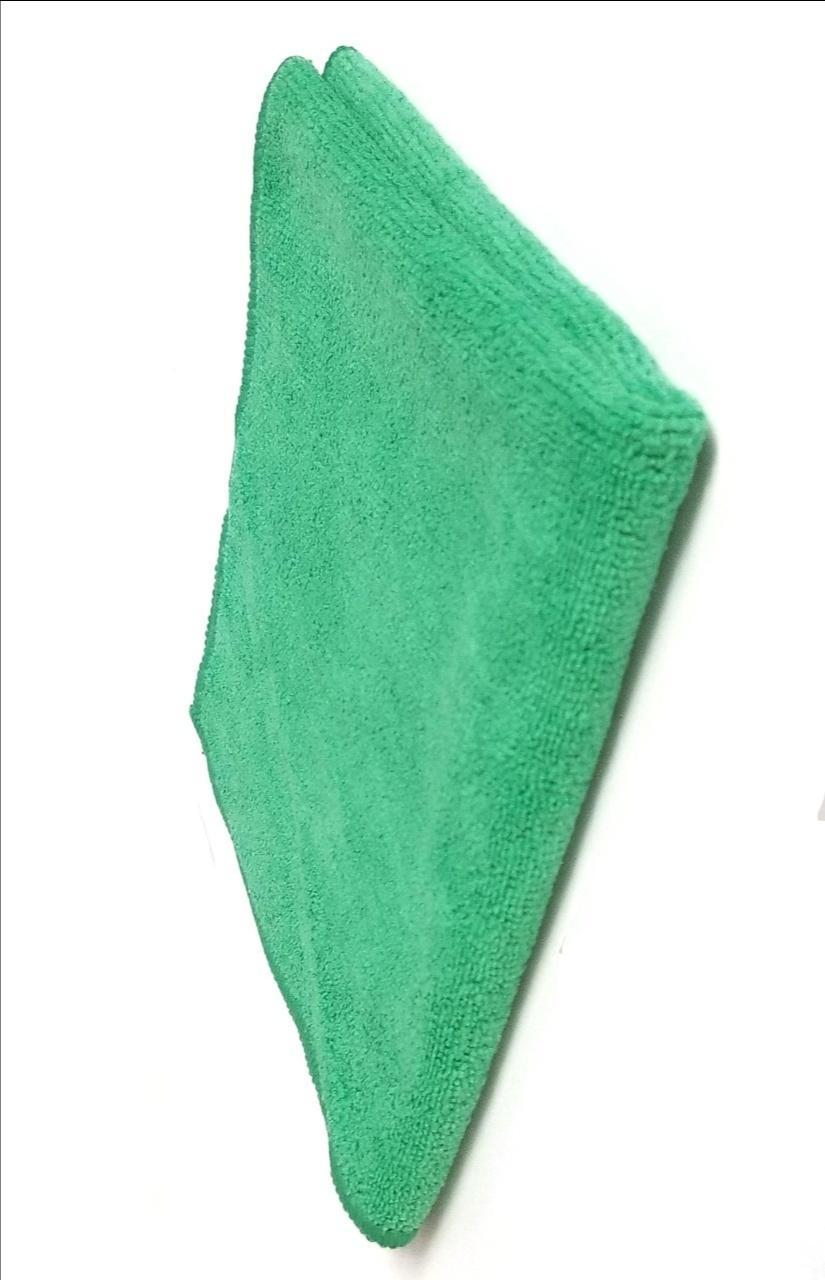towel: (90, 23, 740, 1263)
